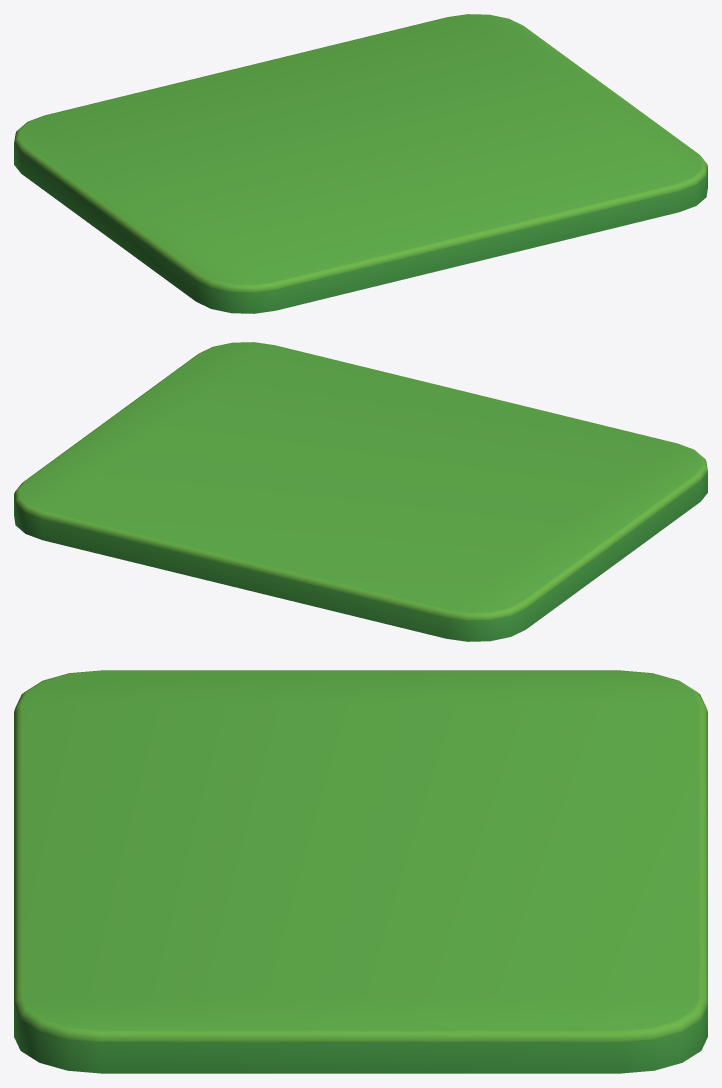
The model's file is Floor Base.glb.
3 views of the same model, one above another, from view 1: azimuth 30°, elevation 25°; view 2: azimuth 150°, elevation 25°; view 3: azimuth 270°, elevation 25° (orthographic). The views are drawn at different scales.
Visible parts, largest first — view 1: floor_base; view 2: floor_base; view 3: floor_base.
Part boxes in pixels (left/top/right/bottom): floor_base: left=14, top=14, right=707, bottom=313; floor_base: left=14, top=342, right=707, bottom=641; floor_base: left=14, top=670, right=707, bottom=1073.
Bounding box in the file's own units: 10 × 0.5 × 8.
1 material, 1 textured.
